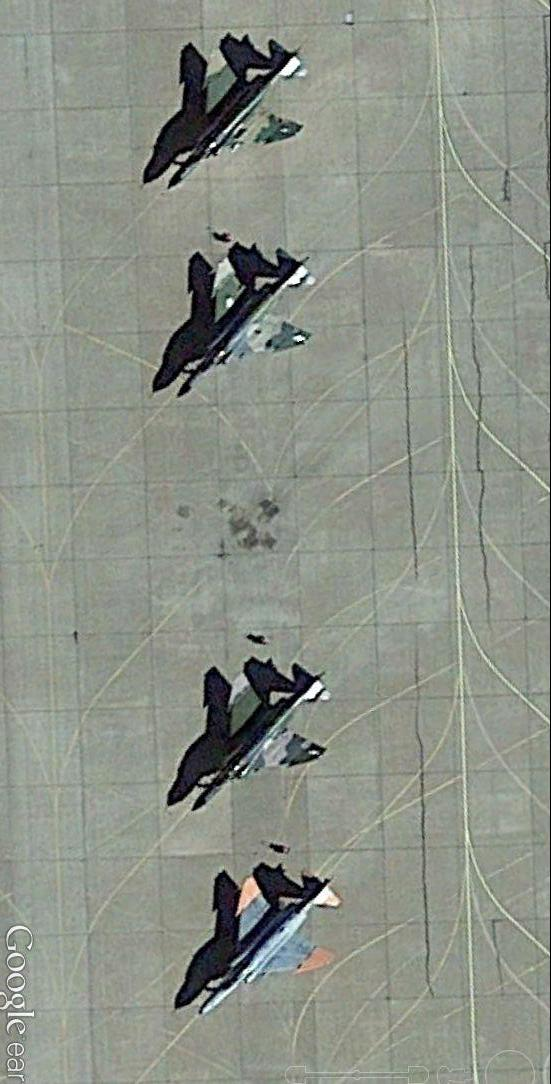plane: (168, 236, 320, 404), (193, 866, 344, 1025), (185, 658, 332, 821), (165, 29, 315, 188)
